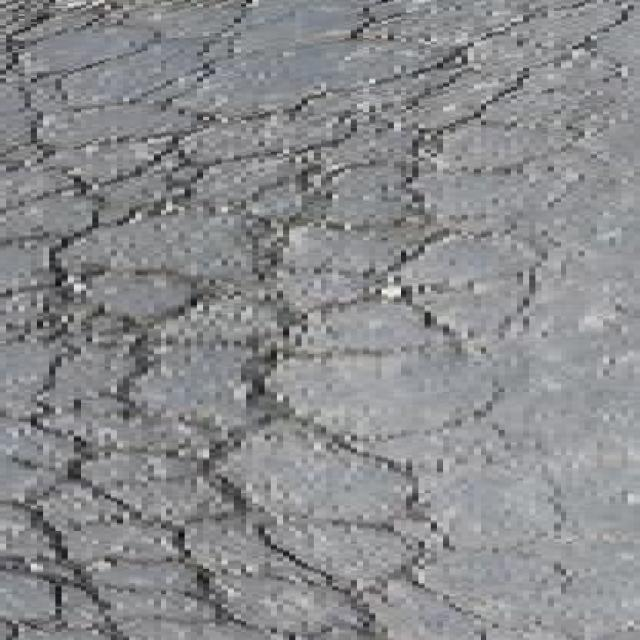GRIETA: (0, 188, 82, 217), (345, 597, 389, 639), (212, 0, 256, 41), (0, 556, 49, 581), (0, 281, 45, 298)
PIEL DE COCODRILO: (0, 3, 629, 640)
